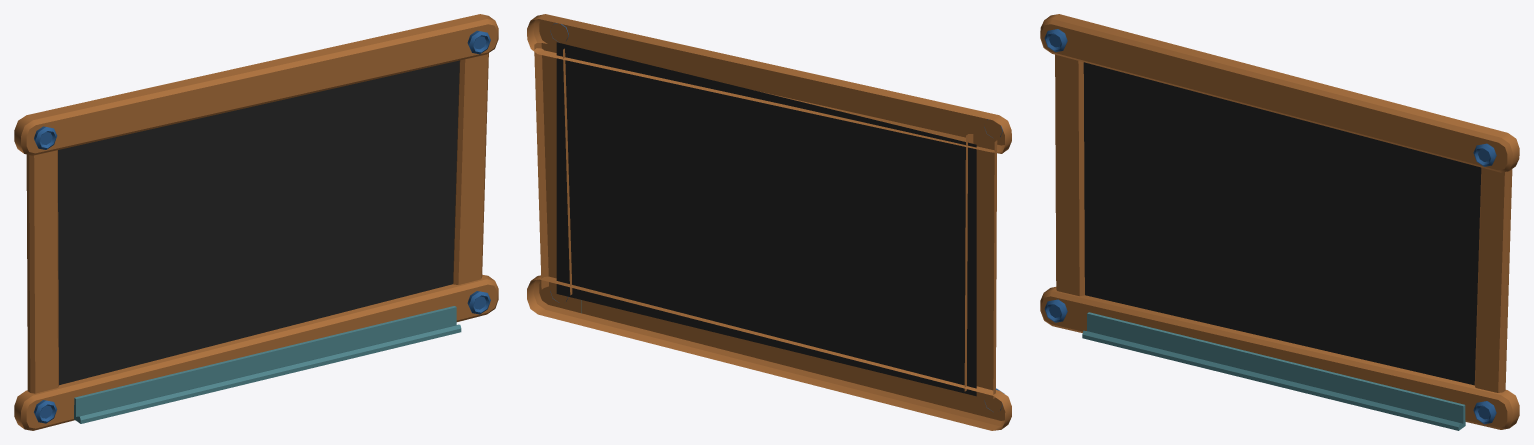
Rendered from Blackboad.fbx.
3 renders of one model, left to right at view 1: azimuth 30°, elevation 25°; view 2: azimuth 150°, elevation 25°; view 3: azimuth 330°, elevation 25°, orthographic.
Visible parts, largest first — view 1: Blackboard; view 2: Blackboard; view 3: Blackboard.
Part boxes in pixels (x1,y1,x2,y2): Blackboard: (14,14,498,430); Blackboard: (527,14,1011,430); Blackboard: (1040,14,1519,430).
Size of the model in its own units: 13.34 by 8.29 by 0.7488.
